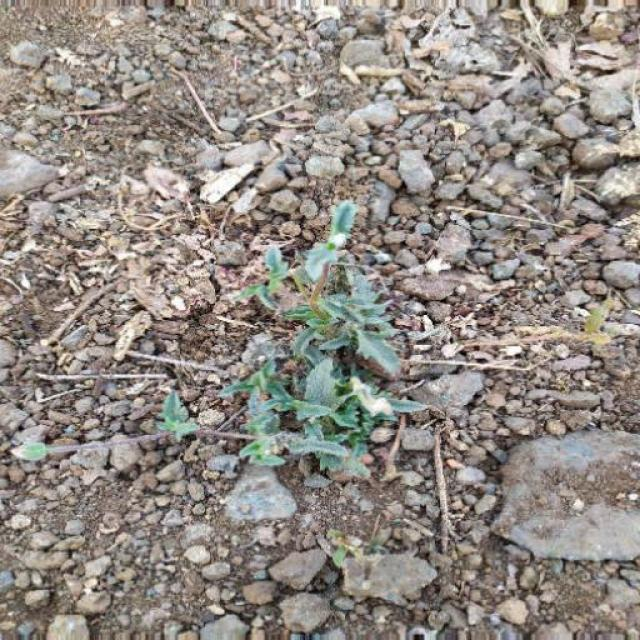weed: (184, 217, 451, 485)
